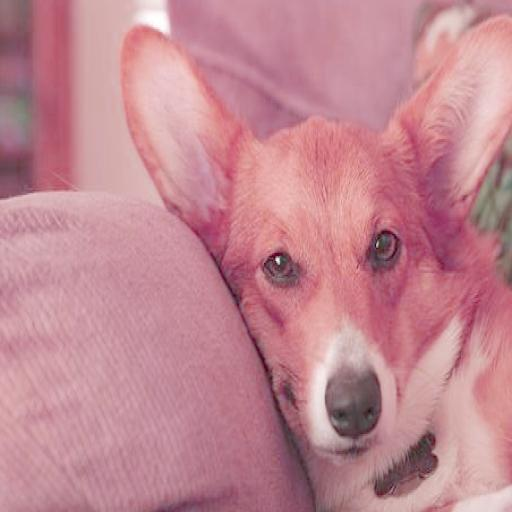dog_face: (113, 20, 512, 451)
